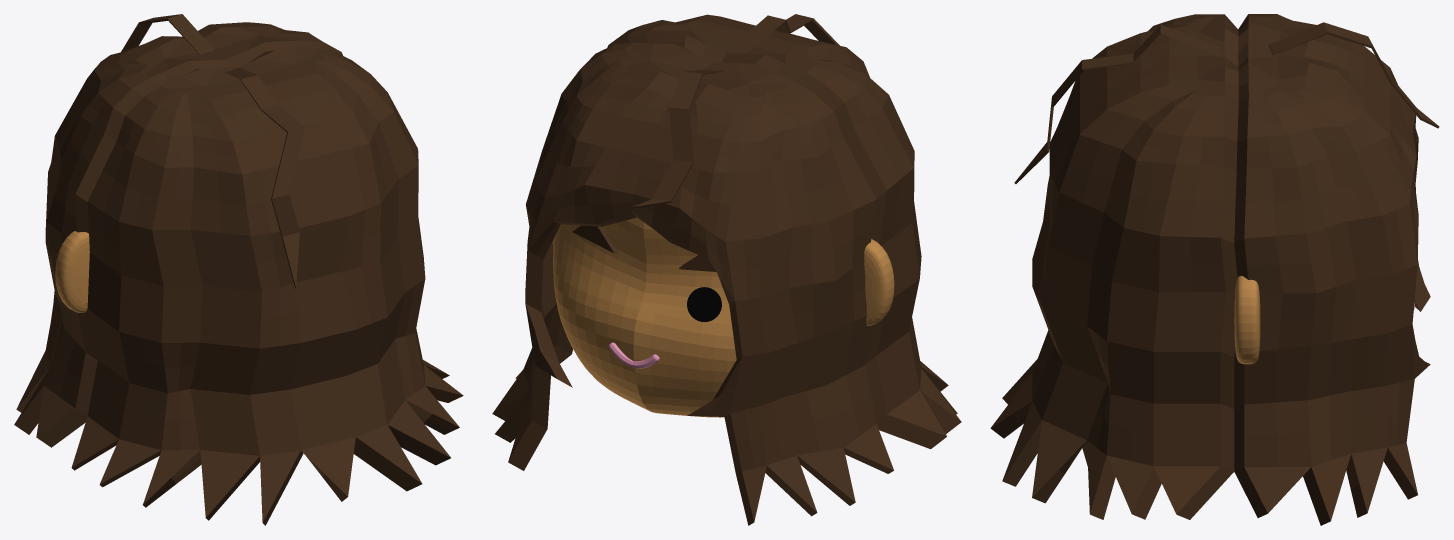
Rendered from character.glb.
3 views of the same model, side by side, from view 1: azimuth 30°, elevation 25°; view 2: azimuth 150°, elevation 25°; view 3: azimuth 270°, elevation 25° (orthographic). The views are drawn at different scales.
Parts seen in each view (by area): view 1: HAIR, DETAIL HAIR, EAR, DETAIL HAIR.002; view 2: HAIR, SKULL, DETAIL HAIR.002, EAR, DETAIL HAIR, Cylinder, EYEBROWS; view 3: HAIR, DETAIL HAIR, EAR, DETAIL HAIR.002.
Part boxes in pixels (left/top/right/bottom): HAIR: left=14, top=22, right=463, bottom=525; DETAIL HAIR: left=224, top=67, right=305, bottom=288; EAR: left=55, top=231, right=89, bottom=312; DETAIL HAIR.002: left=121, top=14, right=214, bottom=54; HAIR: left=492, top=14, right=961, bottom=525; SKULL: left=553, top=217, right=736, bottom=417; DETAIL HAIR.002: left=632, top=69, right=722, bottom=208; EAR: left=552, top=239, right=894, bottom=325; DETAIL HAIR: left=726, top=14, right=839, bottom=53; Cylinder: left=687, top=287, right=721, bottom=321; EYEBROWS: left=572, top=225, right=716, bottom=271; HAIR: left=990, top=14, right=1430, bottom=525; DETAIL HAIR: left=1014, top=24, right=1222, bottom=183; EAR: left=1234, top=276, right=1260, bottom=364; DETAIL HAIR.002: left=1268, top=22, right=1439, bottom=128.
Bounding box in the file's own units: 2.18 × 2.14 × 2.1.
